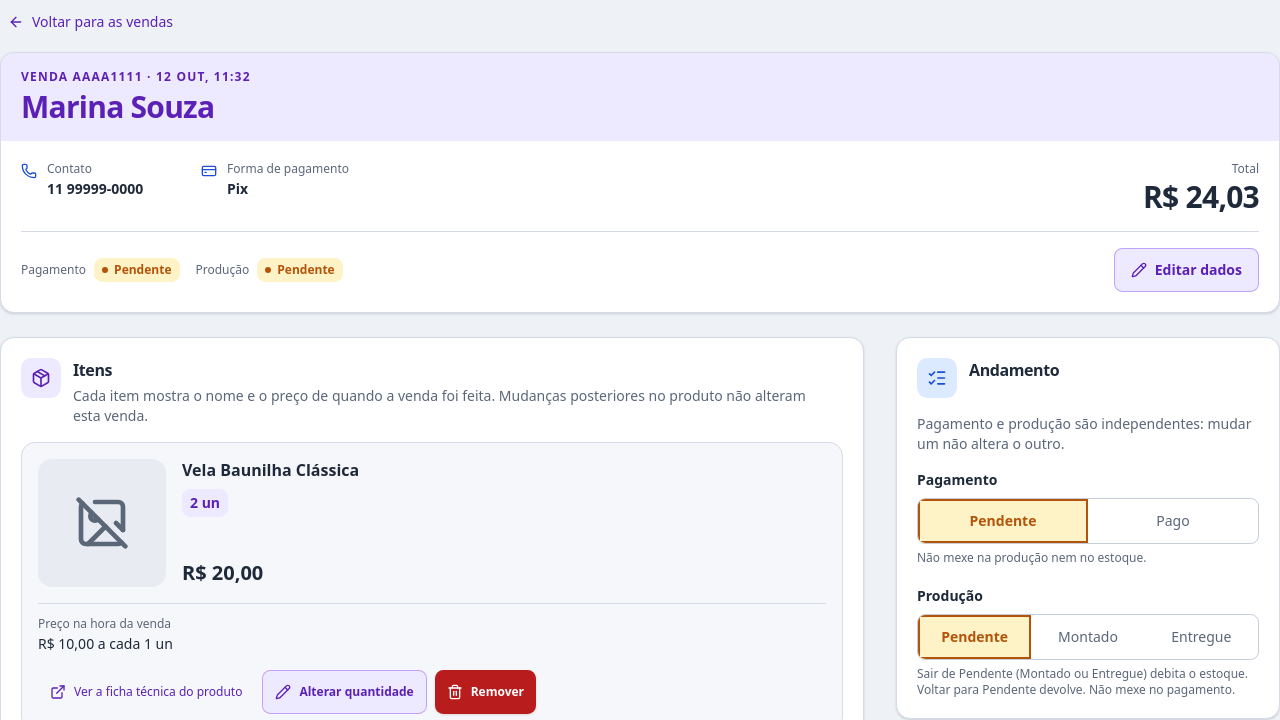
it: assembling a sale › asks first and says the stock will be debited, and does nothing if the answer is no
Expected: the heading "Marina Souza" is shown, top-left (21, 86), bottom-right (214, 127)
Click the radio button labelled "Montado" at point(1088, 637), box top-left (1031, 615), bottom-right (1145, 659)
(page scrolled)
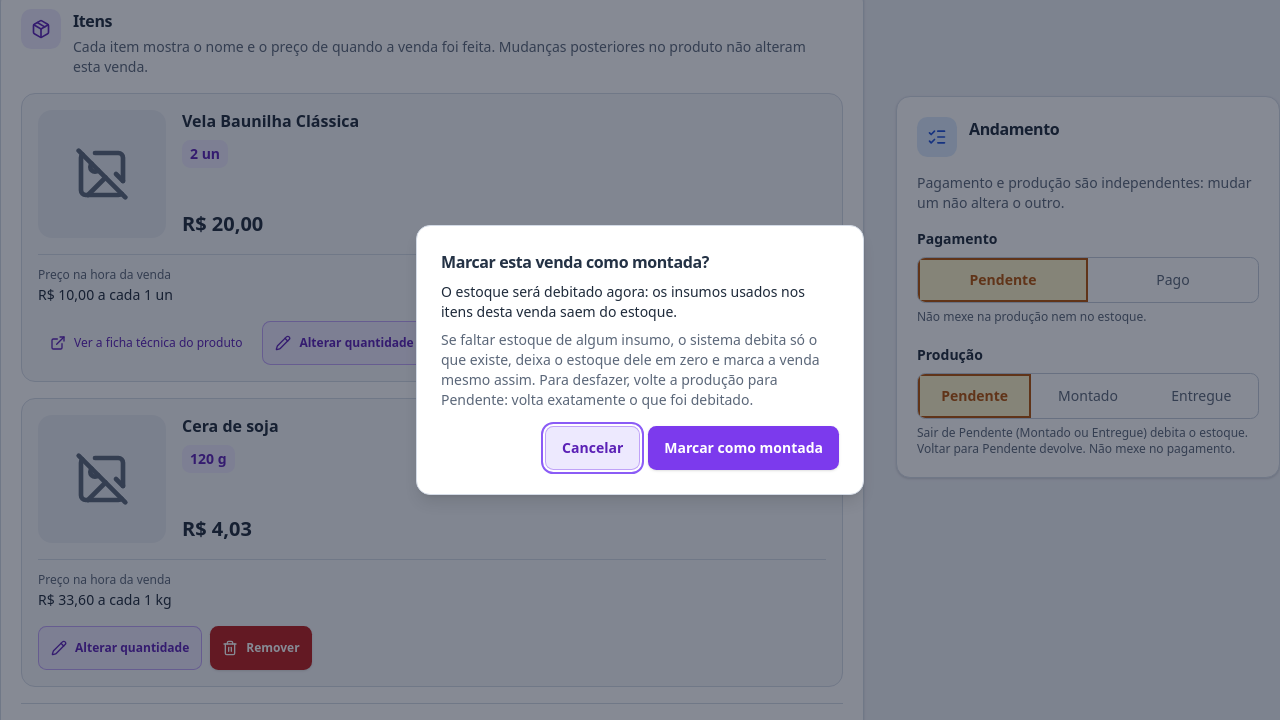
Now the text "O estoque será debitado agora" is shown, box top-left (441, 282), bottom-right (805, 321)
Click the button "Cancelar" at point(593, 448), box top-left (545, 426), bottom-right (640, 470)
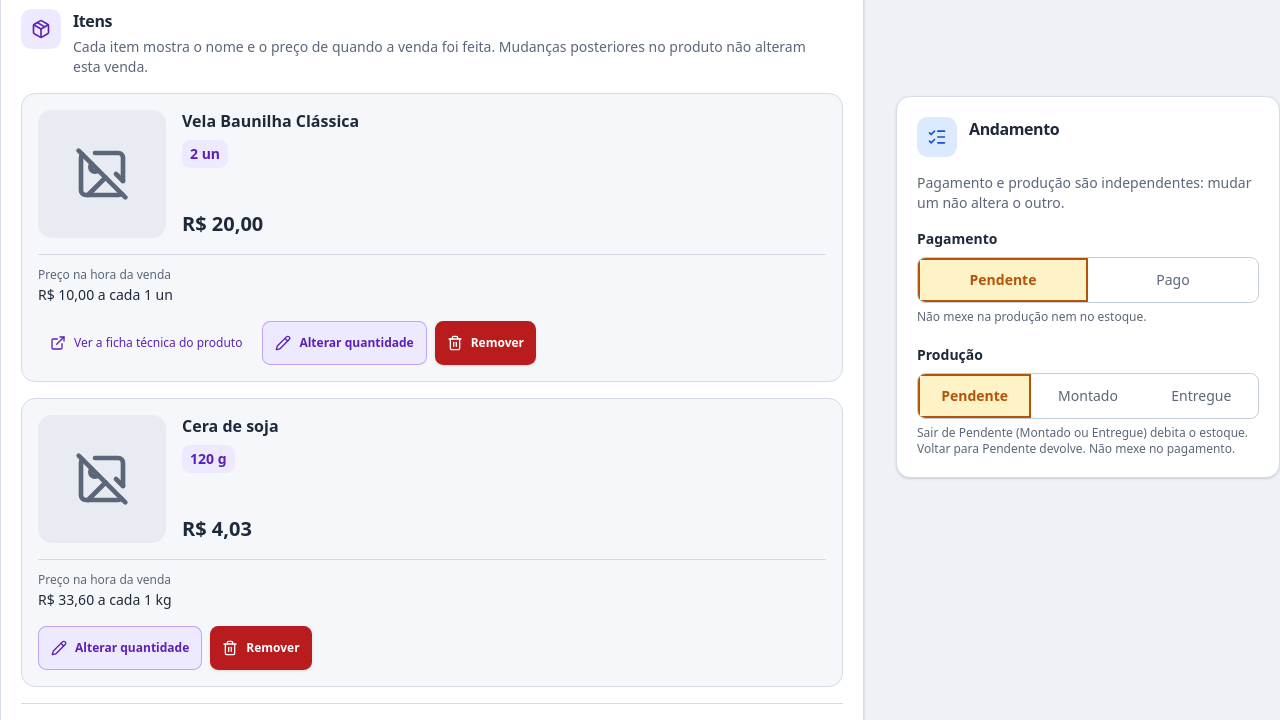
Expected: the 2nd radio button labelled "Pendente" is checked, top-left (918, 374), bottom-right (1031, 418)
Now the dialog is gone
